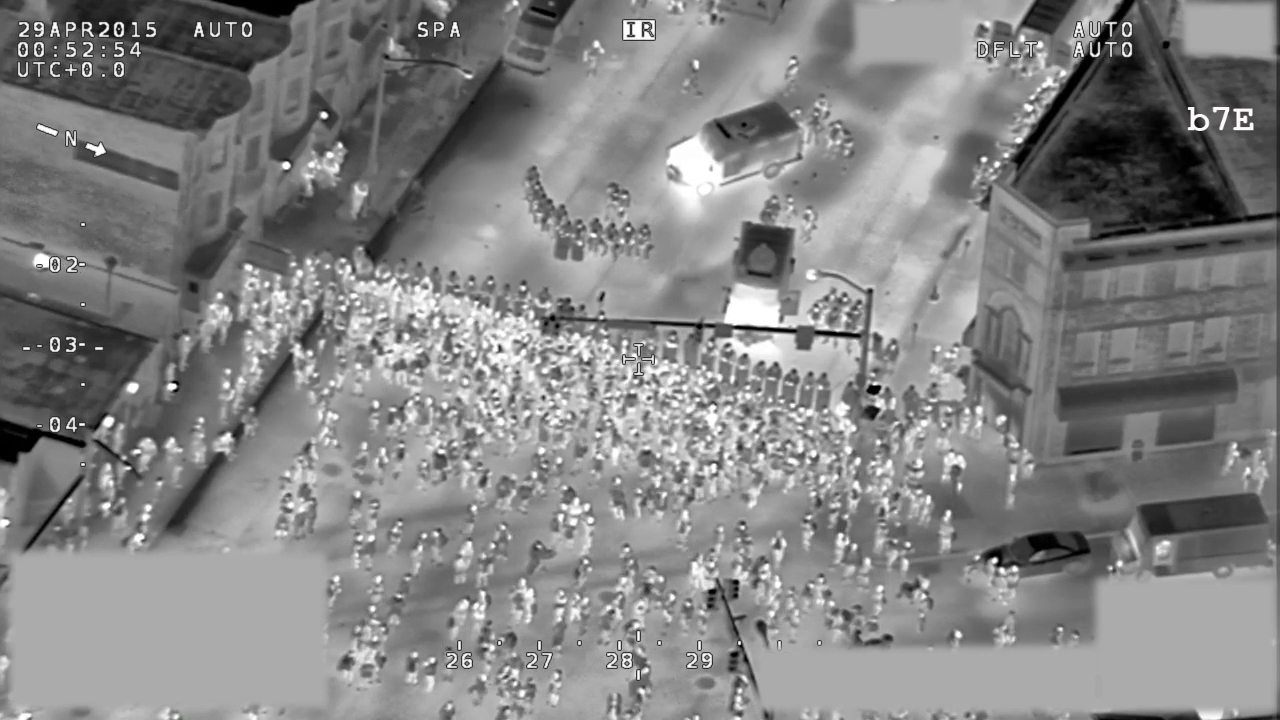vehicle: (660, 96, 807, 206), (1106, 490, 1277, 582), (720, 217, 799, 349), (972, 527, 1099, 580)
